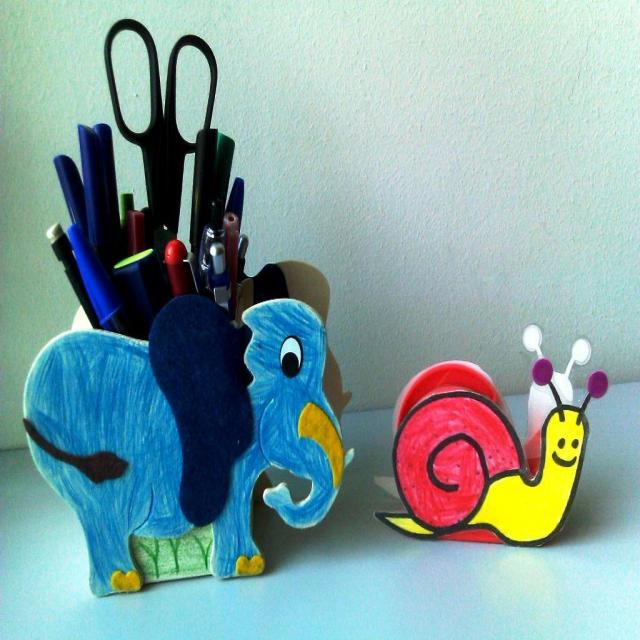elephant: (17, 260, 351, 621)
